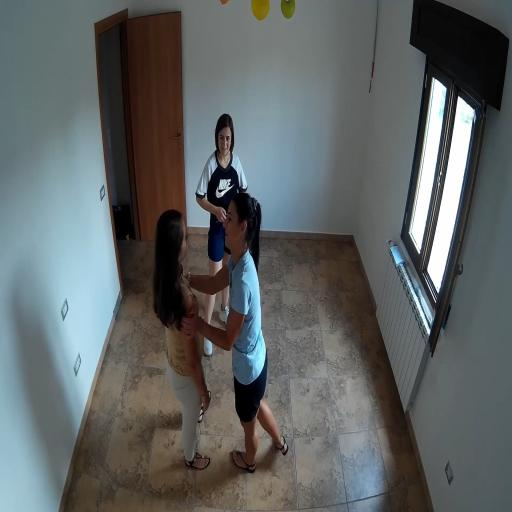nao-violencia: (147, 186, 296, 487)
